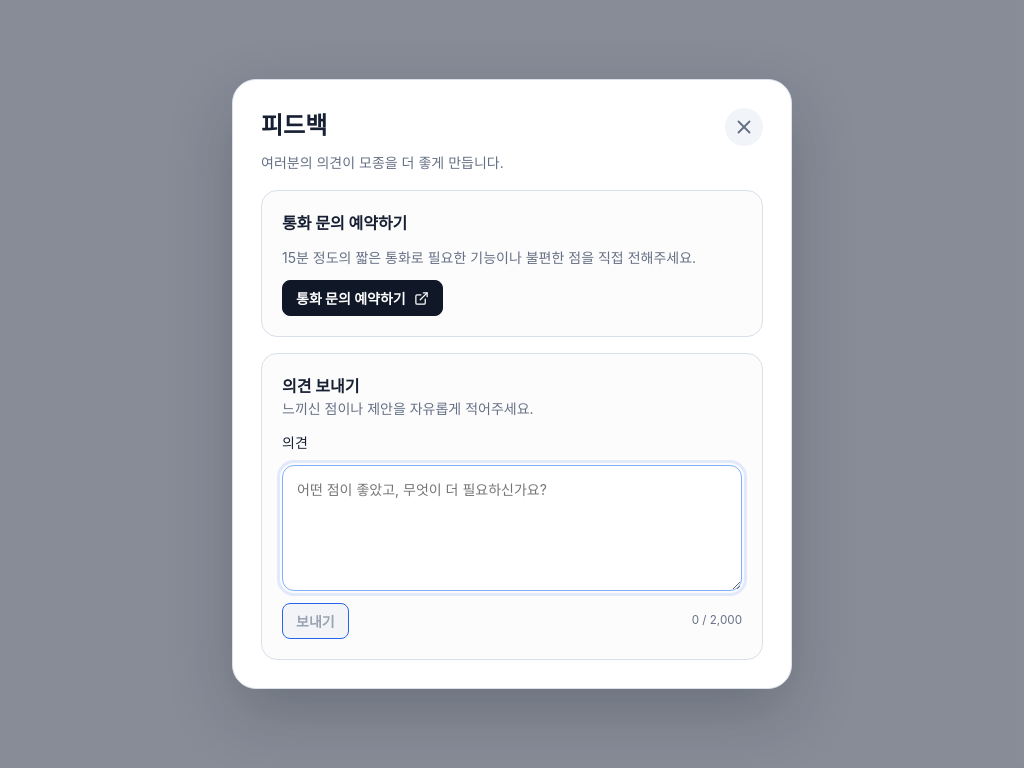
Scenario: FeedbackDialog › blocks blank feedback and reports submission failures
Expected: the button "보내기" is disabled, [282,603,349,639]
In the text box labelled "의견": coordinates (512, 528) [282,465,742,591], type "전송 실패 확인"
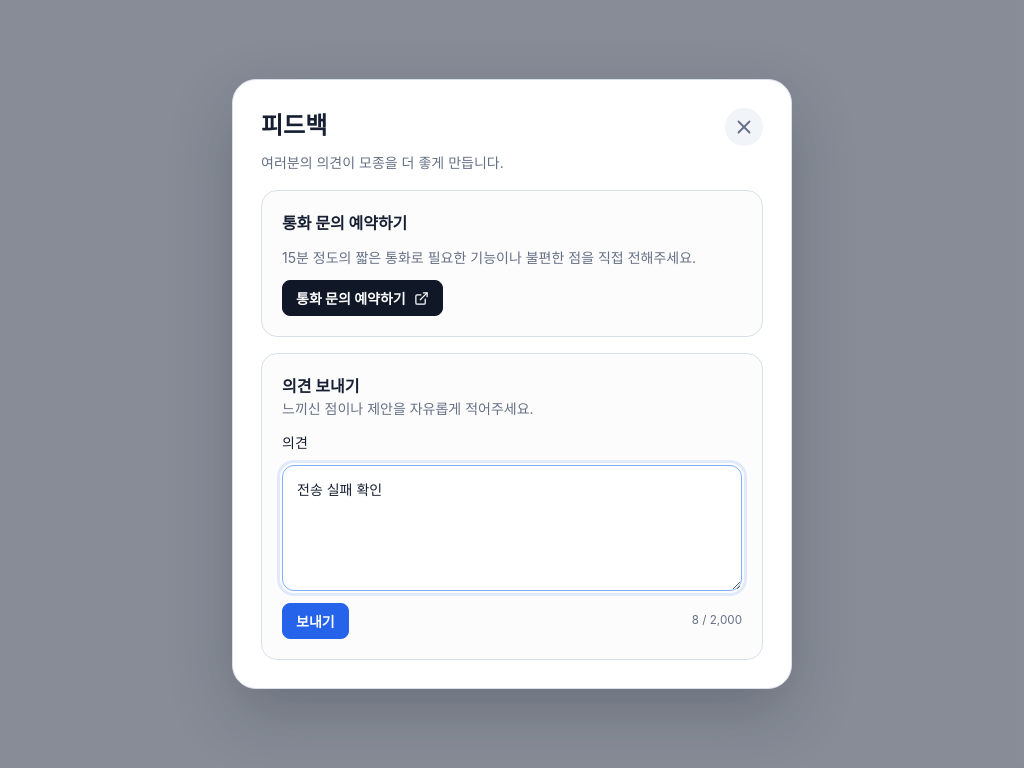
Click the button "보내기": coordinates (315, 621) [282,603,349,639]
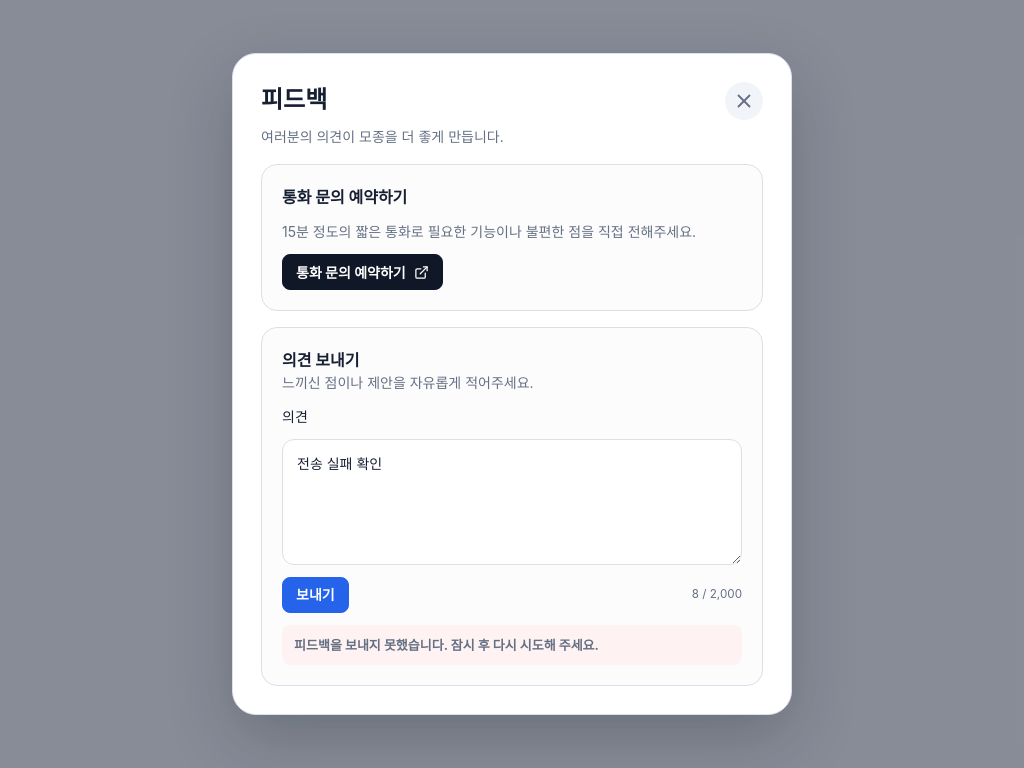
Expected: the message shows "피드백을 보내지 못했습니다", [294,637,599,653]
